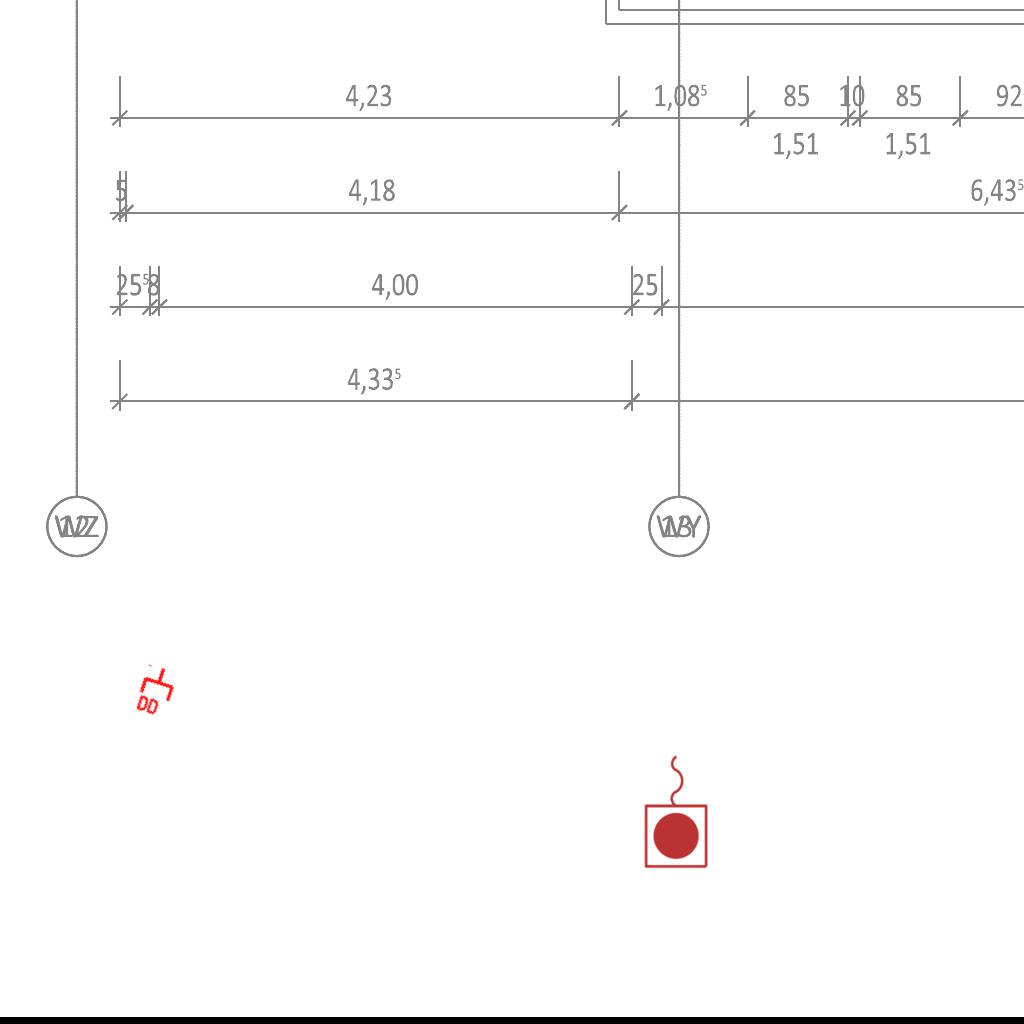Datenanschluss_zweifach: (132, 661, 182, 722)
Zugtaster: (641, 750, 713, 872)
